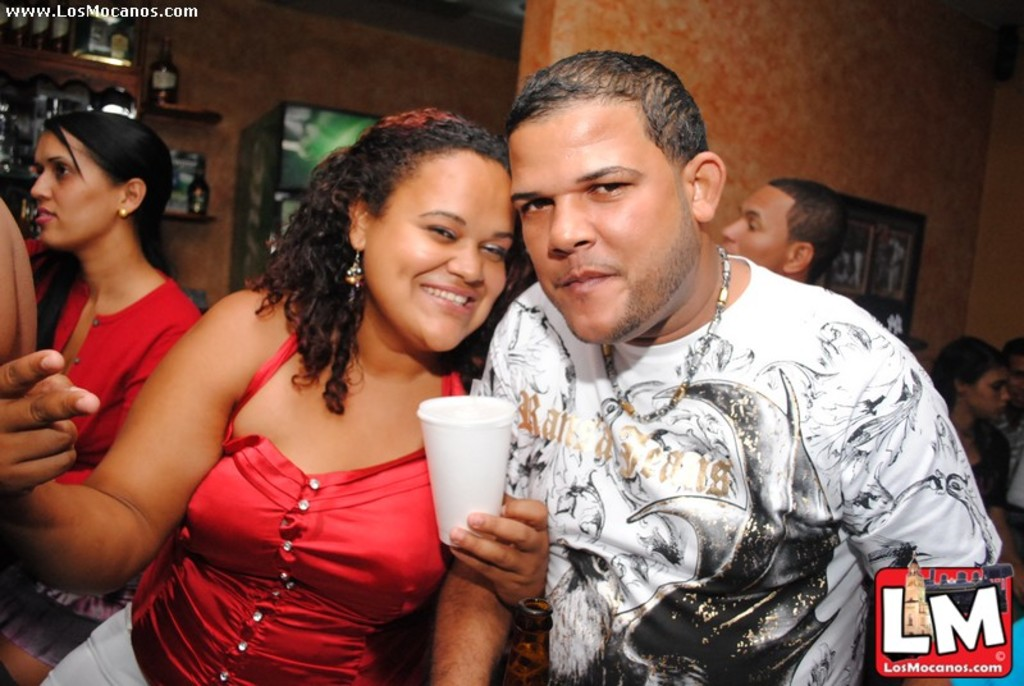Human_hand: (436, 495, 564, 617), (0, 348, 104, 489), (1011, 561, 1023, 600)
